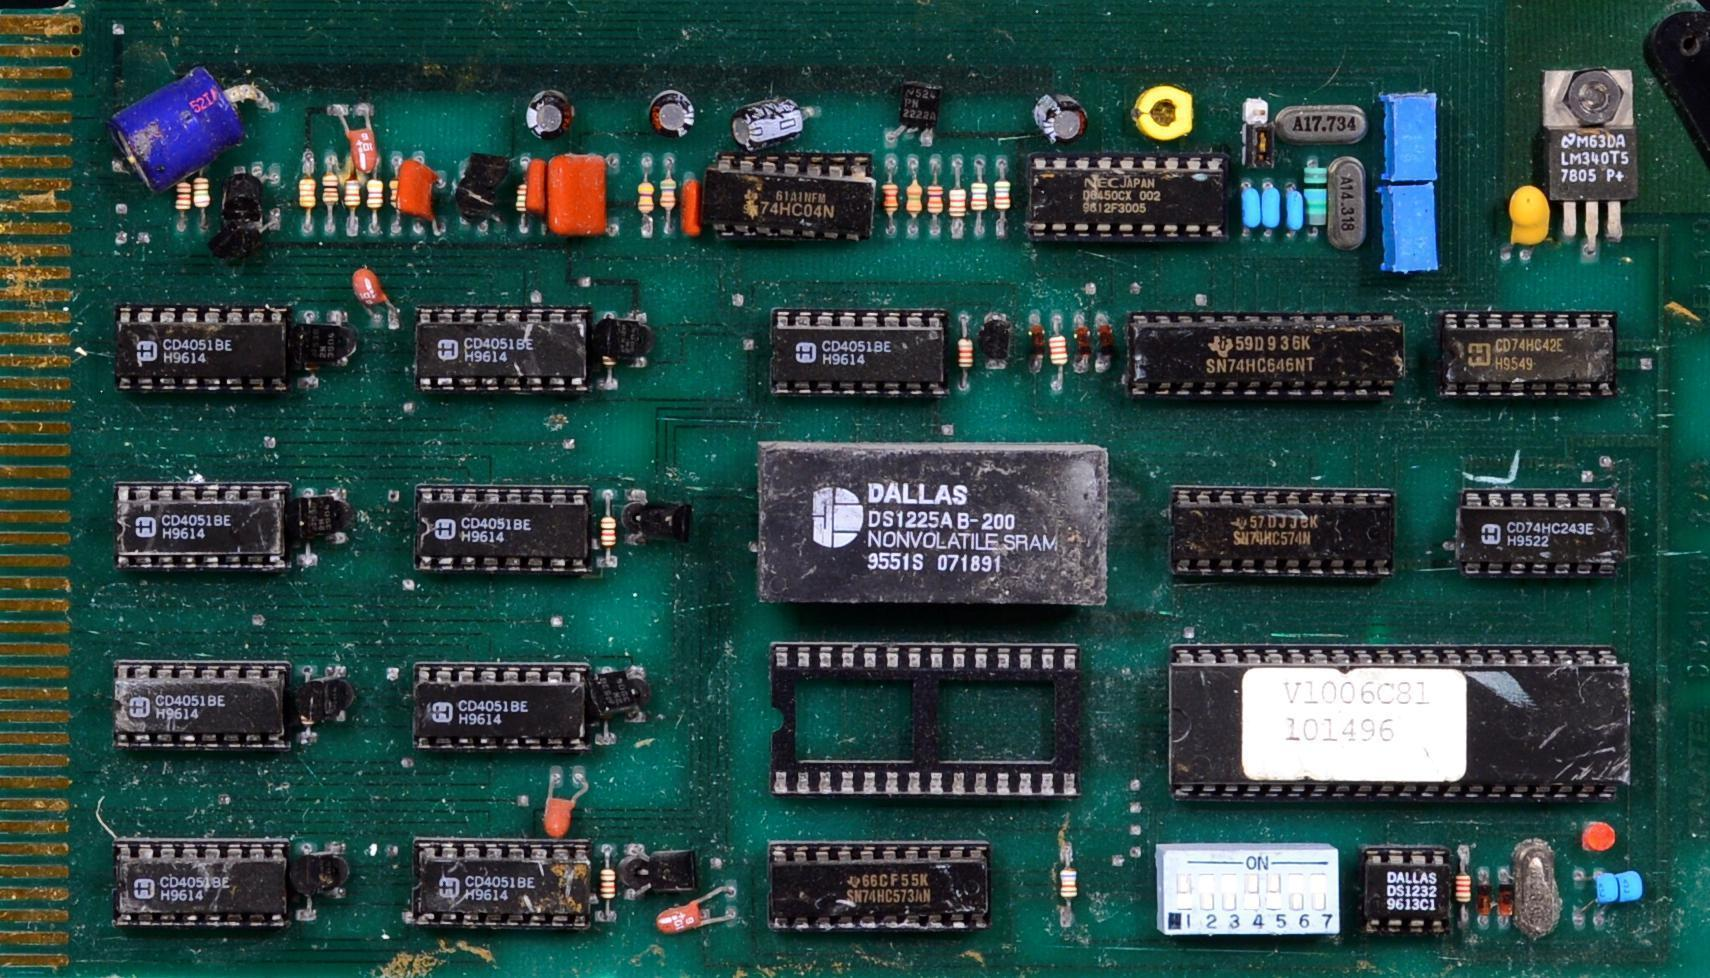Capacitor: (106, 73, 247, 177), (548, 152, 608, 244), (730, 100, 817, 145), (1037, 88, 1082, 155), (352, 261, 404, 318), (525, 93, 576, 145), (398, 155, 437, 221), (651, 87, 697, 142), (333, 97, 377, 144), (1512, 184, 1567, 221), (527, 157, 551, 225), (1236, 180, 1263, 237), (1261, 177, 1284, 240), (682, 166, 701, 236), (1290, 180, 1311, 235)
IC: (763, 446, 1109, 613), (1131, 318, 1422, 413), (787, 824, 989, 941), (1173, 482, 1386, 592), (408, 478, 610, 587), (751, 300, 943, 405), (119, 294, 293, 403), (1429, 301, 1626, 393), (407, 316, 602, 406), (415, 658, 597, 754), (109, 840, 292, 930), (1035, 166, 1226, 246), (423, 842, 597, 930), (111, 664, 279, 752), (113, 486, 288, 568), (713, 162, 869, 254), (1463, 478, 1619, 568), (455, 236, 457, 259)
Resistor: (1051, 859, 1091, 923), (594, 852, 623, 920), (1047, 323, 1071, 379), (174, 176, 200, 228), (1452, 863, 1476, 914), (633, 175, 656, 227), (368, 165, 384, 227), (882, 181, 905, 223), (295, 173, 320, 210), (658, 170, 677, 220), (992, 171, 1011, 218), (945, 185, 970, 217), (318, 169, 338, 208), (970, 176, 990, 215), (516, 177, 535, 216), (195, 170, 210, 217), (603, 510, 619, 551), (387, 163, 402, 210), (346, 176, 364, 214), (931, 180, 946, 226), (904, 182, 923, 215), (953, 335, 972, 361)
